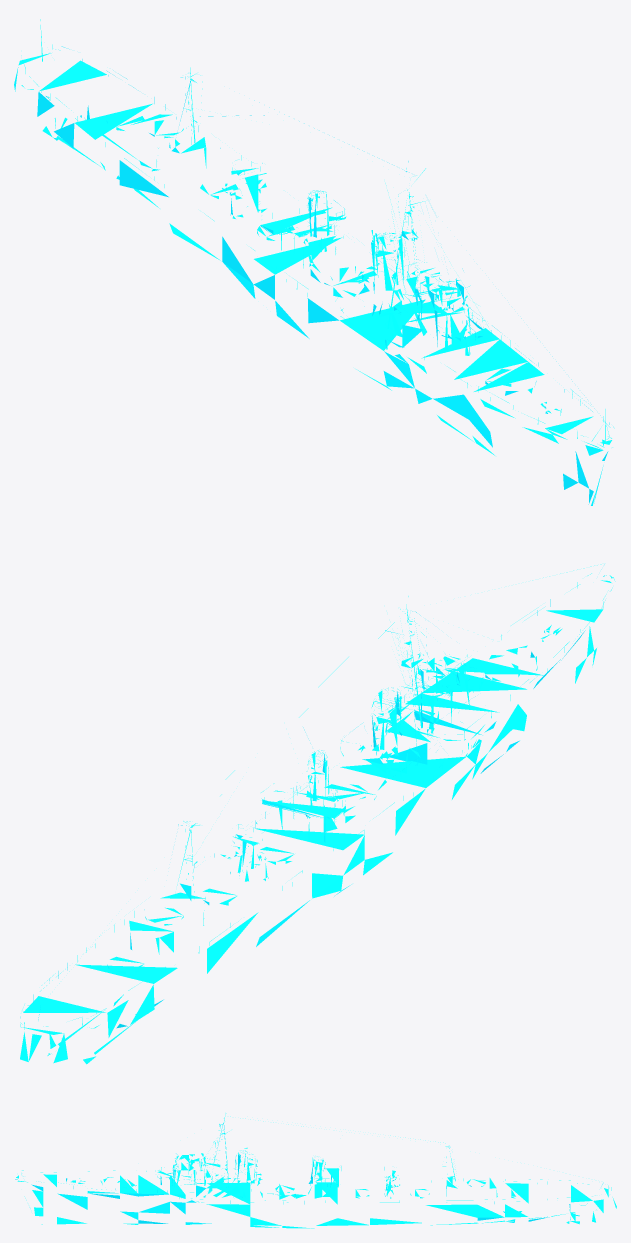
File: Shimakaze.glb
3 renders of one model, top to bottom at view 1: azimuth 30°, elevation 25°; view 2: azimuth 150°, elevation 25°; view 3: azimuth 270°, elevation 25°, orthographic. The views are drawn at different scales.
Bounding box in the file's own units: 0.8578 × 1.86 × 8.56.
